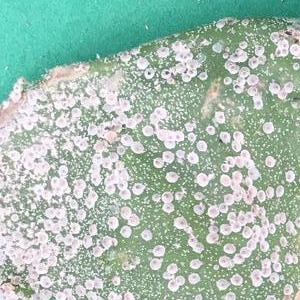Femea: (166, 171, 177, 180), (162, 152, 171, 161), (133, 183, 142, 192), (162, 192, 171, 201), (224, 157, 233, 165), (144, 69, 153, 77), (265, 156, 272, 166), (162, 204, 172, 211), (220, 164, 229, 171), (153, 158, 162, 165), (206, 126, 213, 135), (161, 69, 169, 76), (286, 171, 292, 180)
Linfa: (169, 240, 181, 250), (267, 133, 280, 141), (274, 198, 282, 211), (202, 269, 212, 279), (149, 214, 159, 224), (138, 161, 148, 170), (152, 98, 162, 107), (249, 147, 258, 157), (289, 197, 298, 207), (136, 271, 146, 280), (130, 280, 140, 289), (288, 151, 296, 162), (140, 279, 151, 287), (219, 270, 230, 278), (128, 92, 137, 101), (178, 141, 187, 150), (149, 145, 158, 154), (285, 204, 294, 213), (156, 231, 165, 240), (243, 139, 253, 147), (160, 91, 173, 97), (275, 159, 286, 166), (240, 269, 251, 276), (130, 164, 138, 173), (131, 174, 143, 180), (175, 208, 184, 216), (268, 173, 277, 181), (125, 275, 134, 283), (262, 284, 271, 292), (272, 284, 281, 292), (163, 226, 172, 234), (131, 195, 141, 202), (177, 184, 184, 194), (145, 186, 155, 193), (143, 93, 153, 100), (179, 200, 189, 207), (205, 219, 219, 224), (253, 291, 263, 298), (183, 163, 191, 171), (138, 90, 146, 98), (275, 150, 283, 158), (287, 163, 295, 171), (239, 286, 247, 294), (249, 263, 257, 271), (124, 152, 131, 161), (261, 140, 270, 147), (143, 104, 153, 110), (152, 170, 160, 177), (180, 179, 188, 186), (194, 86, 202, 93), (176, 105, 184, 112), (172, 120, 180, 127), (173, 112, 181, 119), (166, 103, 173, 111), (137, 104, 144, 112), (268, 200, 274, 209), (245, 293, 254, 299), (138, 213, 148, 218), (150, 175, 157, 182), (189, 92, 196, 99), (180, 91, 187, 98), (182, 109, 189, 116), (136, 83, 143, 90), (141, 172, 149, 178), (143, 194, 149, 202), (131, 205, 139, 211), (180, 114, 186, 122), (138, 206, 147, 211), (135, 156, 141, 163), (182, 171, 188, 178), (192, 102, 199, 108), (153, 180, 161, 185), (181, 99, 189, 104), (143, 204, 152, 208), (162, 163, 171, 167), (278, 168, 283, 175), (160, 167, 166, 171)
